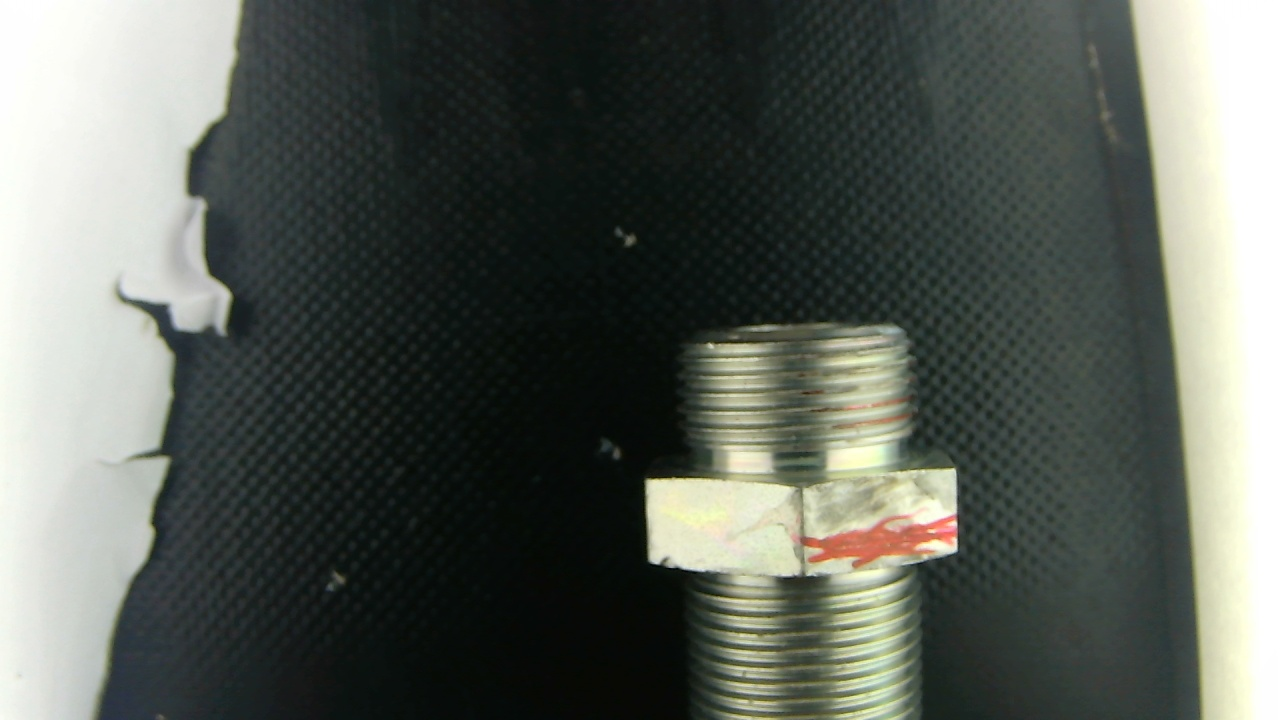blackpatch: (723, 469, 963, 580)
